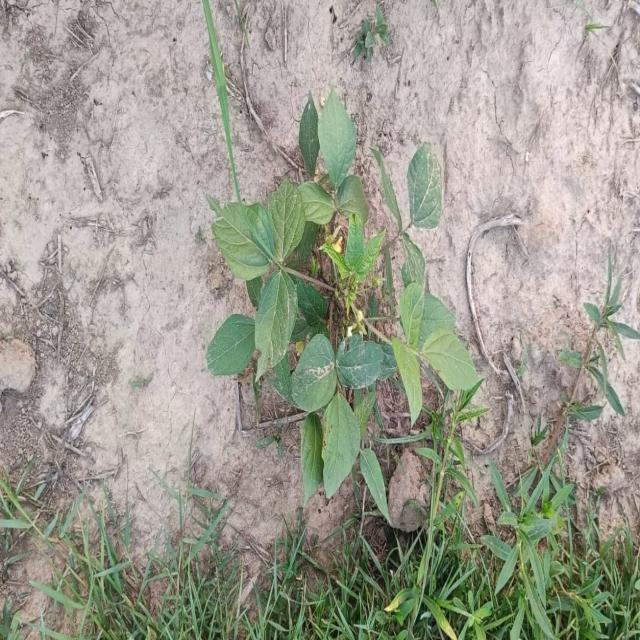plant: (207, 89, 384, 495), (377, 152, 479, 422), (408, 142, 442, 227)
